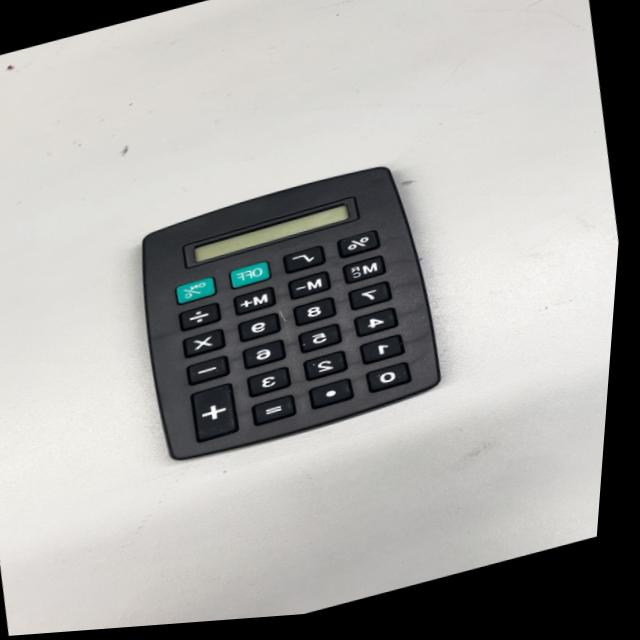calculator: (112, 141, 474, 480)
